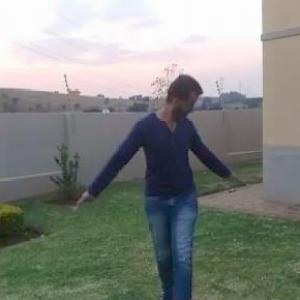land: (58, 53, 268, 299)
